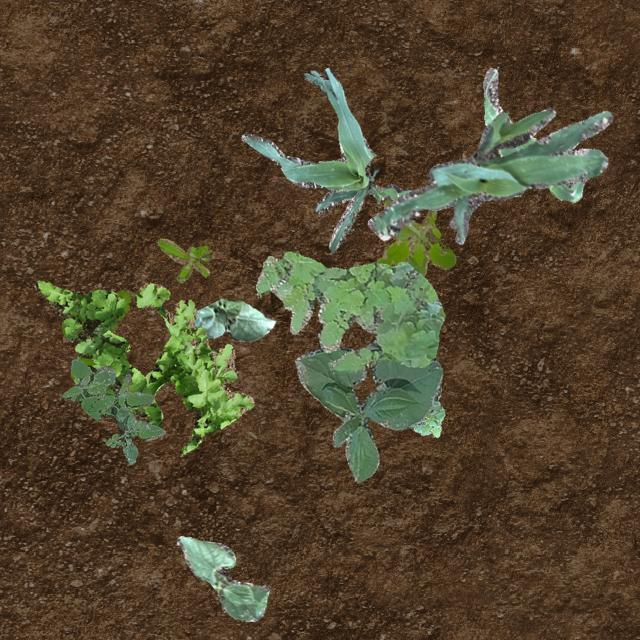crop: (366, 106, 612, 244), (240, 66, 410, 250), (294, 346, 442, 481), (482, 66, 584, 202), (176, 536, 270, 620), (192, 298, 274, 342)
weed: (34, 280, 252, 452), (255, 250, 444, 370), (62, 358, 165, 463), (376, 200, 456, 276), (61, 288, 131, 366), (156, 238, 210, 282), (408, 399, 443, 436)
